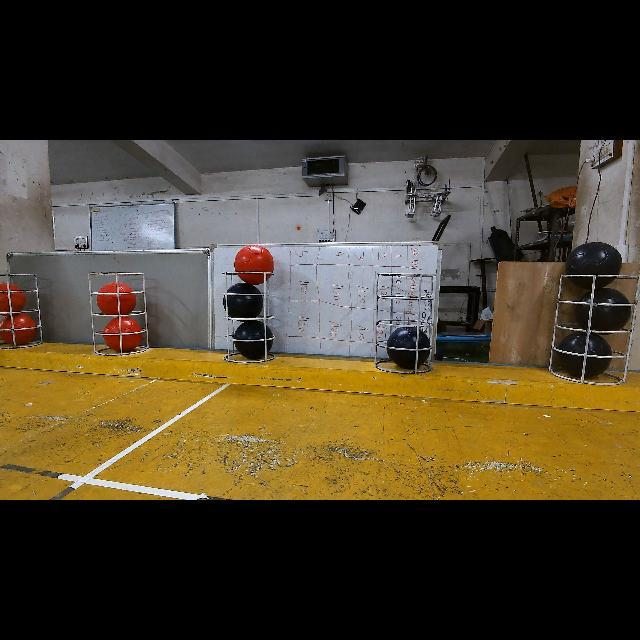P: (565, 241, 623, 289), (555, 332, 612, 379), (575, 286, 632, 331), (388, 327, 430, 369), (234, 320, 274, 359), (224, 282, 264, 319)
R: (234, 245, 275, 285), (102, 316, 142, 352), (96, 281, 136, 315), (0, 312, 38, 346), (0, 282, 26, 312)
S: (560, 267, 622, 385), (87, 272, 147, 366), (376, 272, 430, 370), (221, 272, 275, 366), (0, 278, 38, 348)
